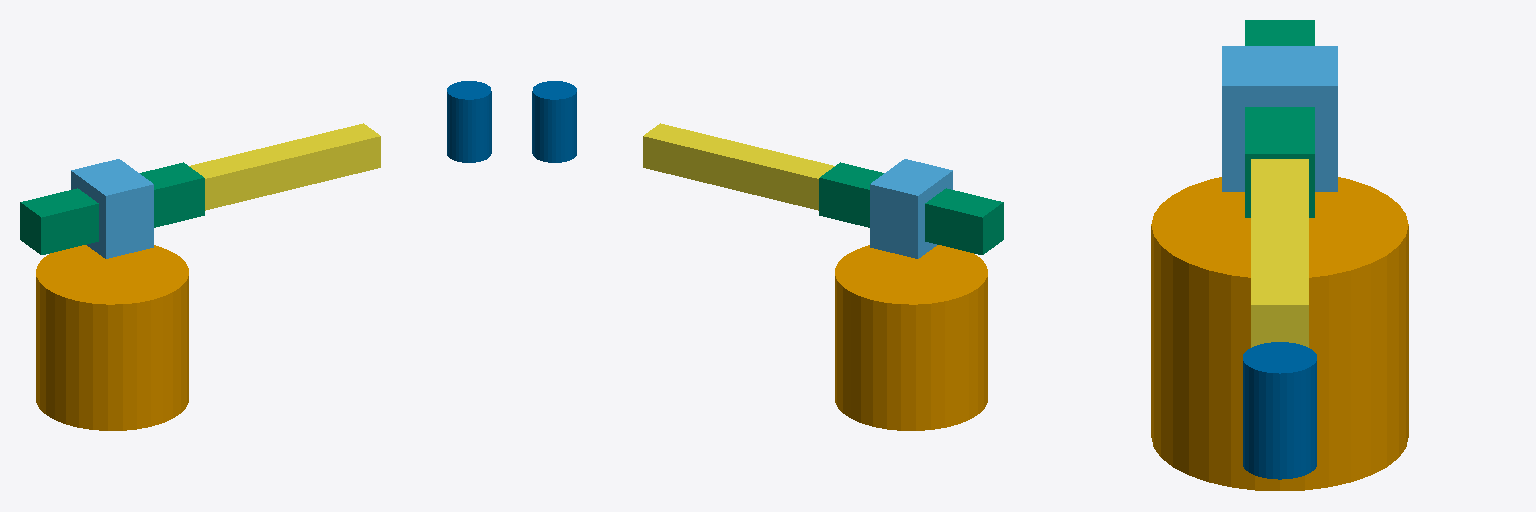
robot.urdf — dobot_approx:
<?xml version="1.0"?>
<robot name="dobot_approx">
  <link name="base"><inertial><mass value="1.0"/><inertia ixx="0.001" ixy="0" ixz="0" iyy="0.001" izx="0" iyz="0" izz="0.001"/></inertial>
    <visual><geometry><cylinder radius="0.055" length="0.1"/><origin xyz="0 0 0.05"/></geometry></visual>
    <collision><geometry><cylinder radius="0.055" length="0.1"/><origin xyz="0 0 0.05"/></geometry></collision></link>
  <link name="shoulder"><inertial><mass value="0.15"/><inertia ixx="0.0002" ixy="0" ixz="0" iyy="0.0002" izx="0" iyz="0" izz="0.0001"/></inertial>
    <visual><geometry><box size="0.04 0.05 0.05"/><origin xyz="0.01 0 0"/></geometry></visual></link>
  <link name="upperarm"><inertial><mass value="0.3"/><inertia ixx="0.0005" ixy="0" ixz="0" iyy="0.0005" izx="0" iyz="0" izz="0.0002"/></inertial>
    <visual><geometry><box size="0.135 0.03 0.03"/><origin xyz="0.0675 0 0"/></geometry></visual></link>
  <link name="forearm"><inertial><mass value="0.2"/><inertia ixx="0.0004" ixy="0" ixz="0" iyy="0.0004" izx="0" iyz="0" izz="0.0001"/></inertial>
    <visual><geometry><box size="0.16 0.025 0.025"/><origin xyz="0.08 0 0"/></geometry></visual></link>
  <link name="tool"><inertial><mass value="0.08"/><inertia ixx="0.0001" ixy="0" ixz="0" iyy="0.0001" izx="0" iyz="0" izz="0.00005"/></inertial>
    <visual><geometry><cylinder radius="0.016" length="0.05"/><origin xyz="0 0 -0.025"/></geometry></visual></link>

  <joint name="j1" type="revolute"><parent link="base"/><child link="shoulder"/>
    <origin xyz="0 0 0.1" rpy="0 0 0"/><axis xyz="0 0 1"/>
    <limit lower="-3.14" upper="3.14" effort="30" velocity="3"/></joint>
  <joint name="j2" type="revolute"><parent link="shoulder"/><child link="upperarm"/>
    <origin xyz="0 0 0" rpy="0 0 0"/><axis xyz="0 1 0"/>
    <limit lower="-2.8" upper="2.8" effort="30" velocity="3"/></joint>
  <joint name="j3" type="revolute"><parent link="upperarm"/><child link="forearm"/>
    <origin xyz="0.135 0 0" rpy="0 0 0"/><axis xyz="0 1 0"/>
    <limit lower="-2.8" upper="2.8" effort="30" velocity="3"/></joint>
  <joint name="j4" type="revolute"><parent link="forearm"/><child link="tool"/>
    <origin xyz="0.16 0 0" rpy="0 0 0"/><axis xyz="0 1 0"/>
    <limit lower="-6.0" upper="6.0" effort="10" velocity="6"/></joint>
</robot>

--- What the picture shows (computed from the rendered views, not written in the file) ---
The picture shows the robot from 3 angles, left to right: view 1: azimuth 30°, elevation 25°; view 2: azimuth 150°, elevation 25°; view 3: azimuth 270°, elevation 25°; orthographic projection.
Model dobot_approx with 5 links and 4 joints (4 revolute), rooted at base, posed every joint at zero.
Visible links, largest first — view 1: base, forearm, upperarm, shoulder, tool; view 2: base, forearm, upperarm, shoulder, tool; view 3: base, shoulder, forearm, tool, upperarm.
Boxes of the visible links, x1,y1,x2,y2 form: base: (36, 245, 188, 430); forearm: (189, 123, 380, 210); upperarm: (20, 162, 204, 254); shoulder: (71, 159, 153, 258); tool: (447, 81, 491, 162); base: (835, 245, 987, 430); forearm: (643, 123, 834, 210); upperarm: (819, 162, 1003, 254); shoulder: (870, 159, 952, 258); tool: (532, 81, 576, 162); base: (1151, 177, 1408, 490); shoulder: (1222, 46, 1337, 191); forearm: (1251, 159, 1308, 347); tool: (1243, 342, 1316, 479); upperarm: (1245, 20, 1314, 217).
Size in the robot's own frame: 0.3785 by 0.11 by 0.175 metres.
Geometry: primitives only (box / cylinder / sphere), no mesh files.
